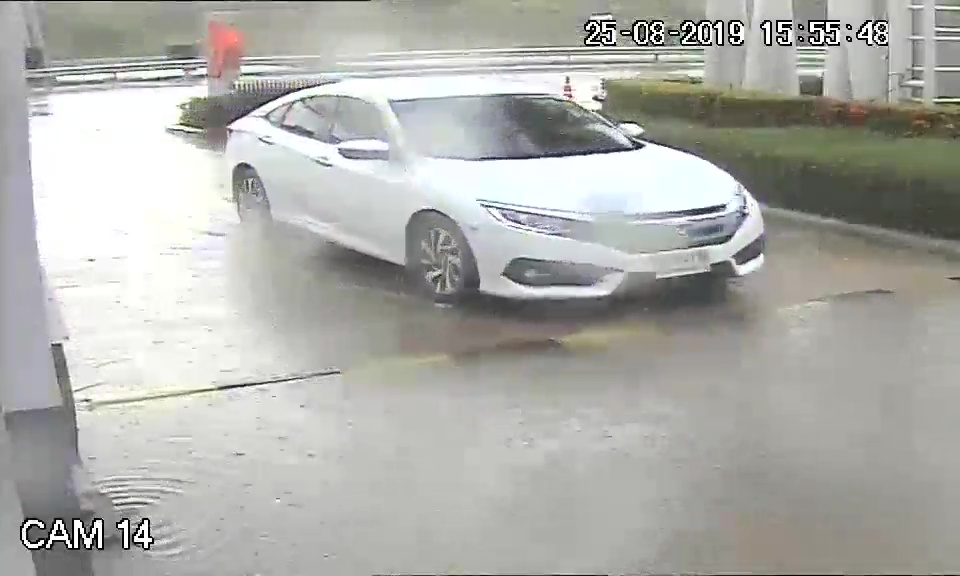sedan: (208, 71, 773, 313)
